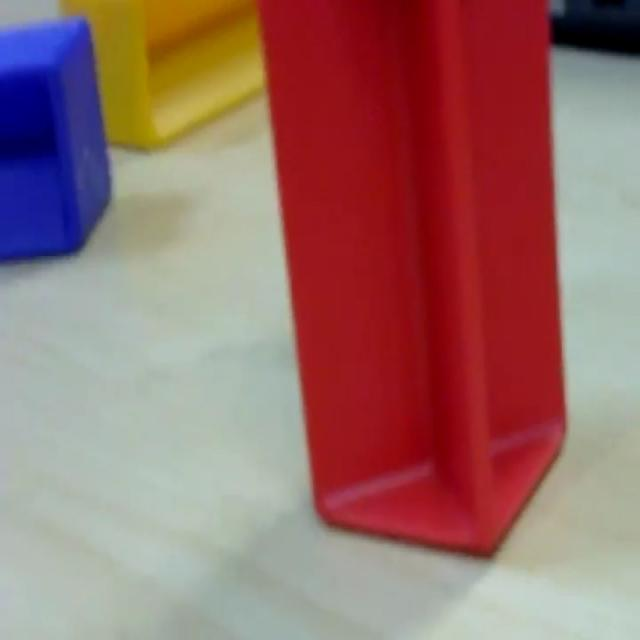blue_block: (0, 15, 112, 261)
red_block: (255, 0, 568, 557)
yellow_block: (58, 0, 265, 151)
